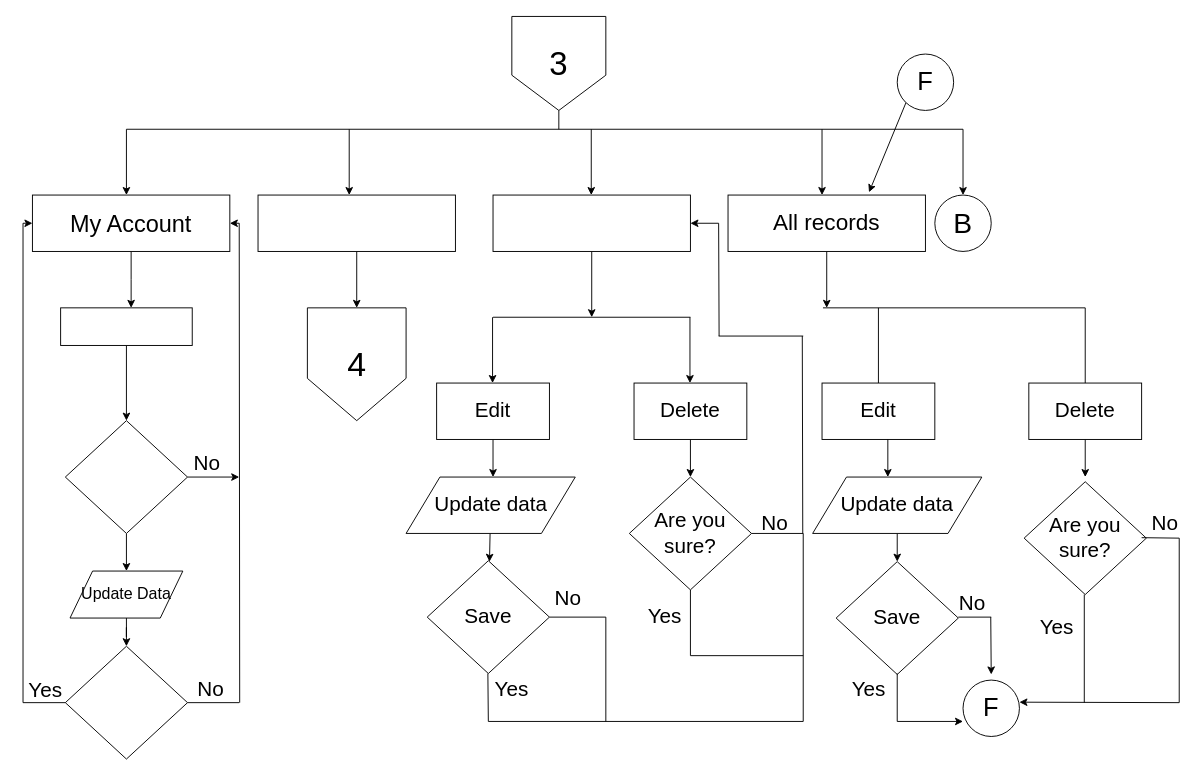
This 1203x776 diagram has some shape labels left out. The centre of each missing label's shape, as x and y in pixels:
Account view: the point at 126,326
Accounts List: the point at 356,222
Edit?: the point at 126,476
History: the point at 591,222
Save?: the point at 126,702
